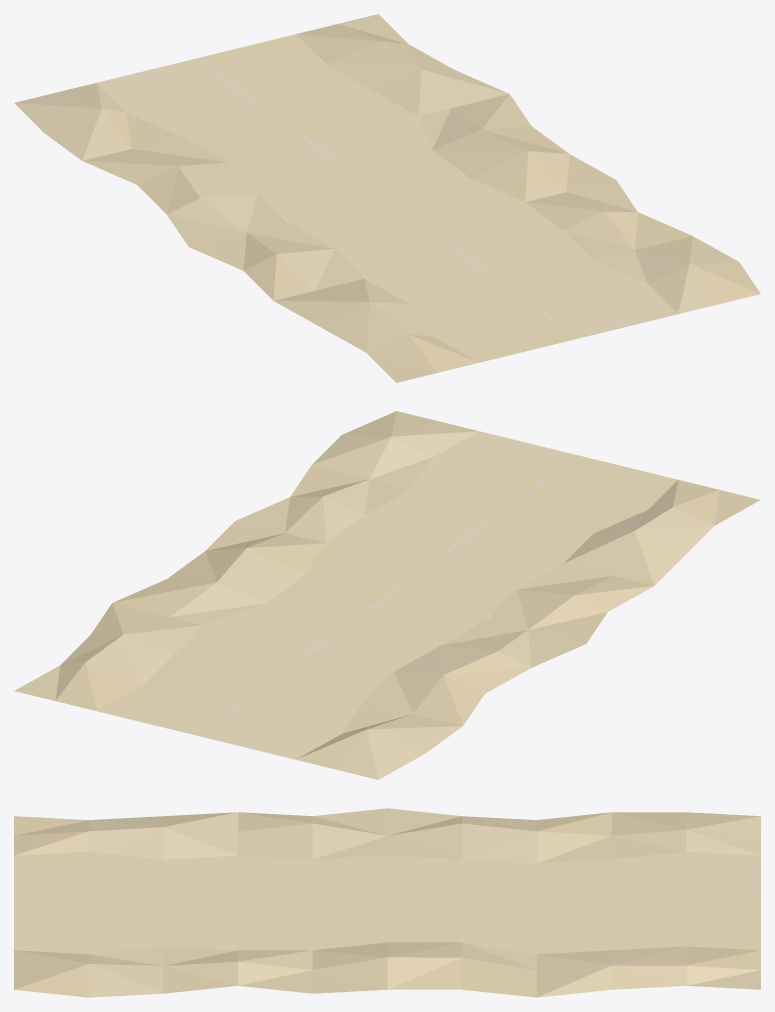
File: drodb.glb
3 renders of one model, top to bottom at view 1: azimuth 30°, elevation 25°; view 2: azimuth 150°, elevation 25°; view 3: azimuth 270°, elevation 25°, orthographic. The views are drawn at different scales.
Visible parts, largest first — view 1: drodb; view 2: drodb; view 3: drodb.
Part boxes in pixels (x1,y1,x2,y2): drodb: [14, 14, 760, 382]; drodb: [14, 411, 760, 779]; drodb: [14, 808, 760, 997].
Bounding box in the file's own units: 33.6 × 1.05 × 56.
